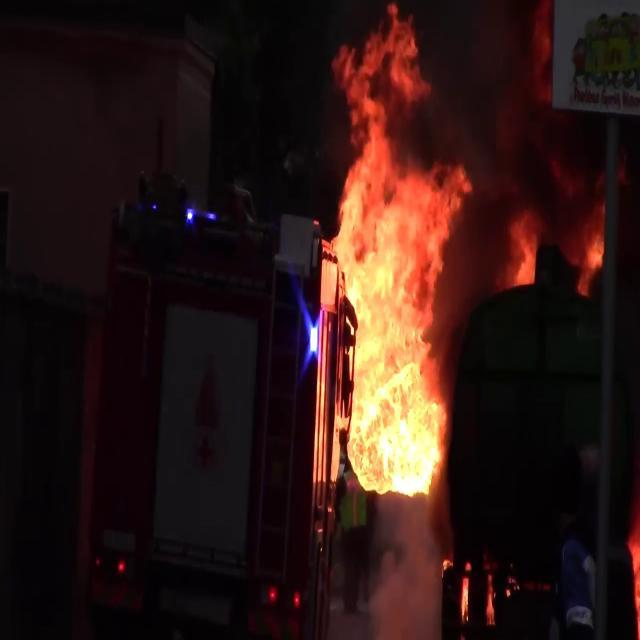Fire: (314, 8, 462, 500), (625, 477, 640, 639)
Smoke: (411, 0, 614, 307)
